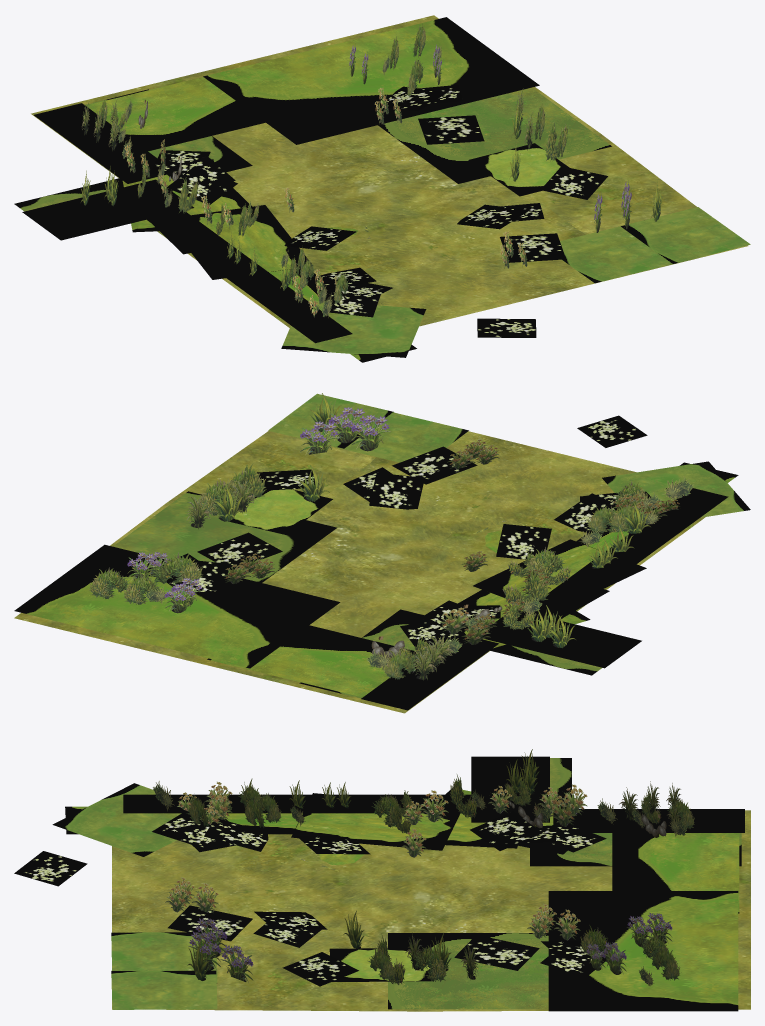
File: K1_tongyicao3.FBX
The picture shows the model from 3 angles, top to bottom: view 1: azimuth 30°, elevation 25°; view 2: azimuth 150°, elevation 25°; view 3: azimuth 270°, elevation 25°; orthographic projection. The views are drawn at different scales.
Parts seen in each view (by area): view 1: k1_weeds_caoping076, k1_weeds_caoping069, k1_weeds_caoping055, k1_weeds_caoping070, k1_zacao_2500, k1_weeds_caoping059, k1_zacao_2502, k1_weeds_caoping073, k1_weeds_caoping060, k1_zacao_2501, k1_weeds_caoping067, k1_weeds_caoping044 (+16 smaller); view 2: k1_weeds_caoping076, k1_weeds_caoping069, k1_weeds_caoping055, k1_weeds_caoping070, k1_zacao_2500, k1_zacao_2502, k1_weeds_caoping059, k1_zacao_2501, k1_weeds_caoping060, k1_weeds_caoping044, k1_weeds_caoping073, k1_weeds_caoping067 (+29 smaller); view 3: k1_weeds_caoping076, k1_weeds_caoping069, k1_weeds_caoping055, k1_weeds_caoping070, k1_zacao_2500, k1_weeds_caoping059, k1_weeds_caoping073, k1_weeds_caoping067, k1_weeds_caoping060, k1_zacao_2502, k1_zacao_2501, k1_zacao_2739 (+36 smaller).
Boxes of the visible parts, <box> form: k1_weeds_caoping076: <box>31,15,747,327</box>; k1_weeds_caoping069: <box>203,17,539,144</box>; k1_weeds_caoping055: <box>378,87,611,183</box>; k1_weeds_caoping070: <box>85,77,265,151</box>; k1_zacao_2500: <box>133,201,352,343</box>; k1_weeds_caoping059: <box>281,300,426,357</box>; k1_zacao_2502: <box>22,179,193,240</box>; k1_weeds_caoping073: <box>621,207,750,264</box>; k1_weeds_caoping060: <box>560,220,671,283</box>; k1_zacao_2501: <box>34,103,166,183</box>; k1_weeds_caoping067: <box>191,205,312,279</box>; k1_weeds_caoping044: <box>468,143,569,196</box>; k1_weeds_caoping076: <box>14,431,705,713</box>; k1_weeds_caoping069: <box>14,544,340,668</box>; k1_weeds_caoping055: <box>113,491,336,582</box>; k1_weeds_caoping070: <box>207,625,416,697</box>; k1_zacao_2500: <box>518,488,728,623</box>; k1_zacao_2502: <box>481,611,641,668</box>; k1_weeds_caoping059: <box>602,461,750,517</box>; k1_zacao_2501: <box>361,639,498,710</box>; k1_weeds_caoping060: <box>327,412,468,462</box>; k1_weeds_caoping044: <box>228,489,332,534</box>; k1_weeds_caoping073: <box>268,393,393,448</box>; k1_weeds_caoping067: <box>473,539,646,597</box>; k1_weeds_caoping076: <box>112,810,750,1011</box>; k1_weeds_caoping069: <box>548,891,738,1011</box>; k1_weeds_caoping055: <box>388,933,548,1009</box>; k1_weeds_caoping070: <box>612,833,739,913</box>; k1_zacao_2500: <box>123,794,493,813</box>; k1_weeds_caoping059: <box>52,783,210,856</box>; k1_weeds_caoping073: <box>111,970,217,1009</box>; k1_weeds_caoping067: <box>291,793,460,850</box>; k1_weeds_caoping060: <box>111,932,217,982</box>; k1_zacao_2502: <box>471,756,549,822</box>; k1_zacao_2501: <box>553,809,744,832</box>; k1_zacao_2739: <box>14,818,235,886</box>.
Bounding box in the file's own units: 1697 × 169 × 2066.
